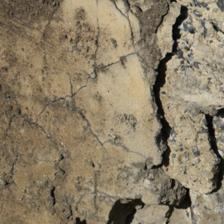Crack: (141, 4, 193, 170), (38, 52, 138, 120), (108, 178, 186, 223), (113, 2, 137, 47)
